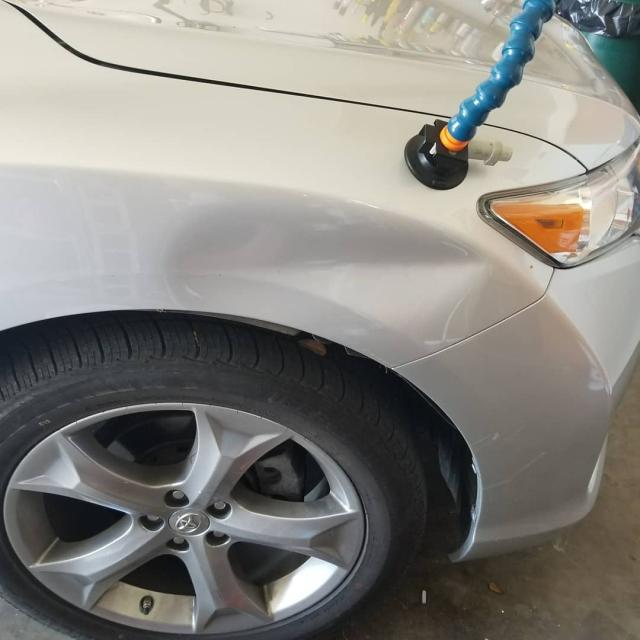dent: (166, 192, 491, 321)
